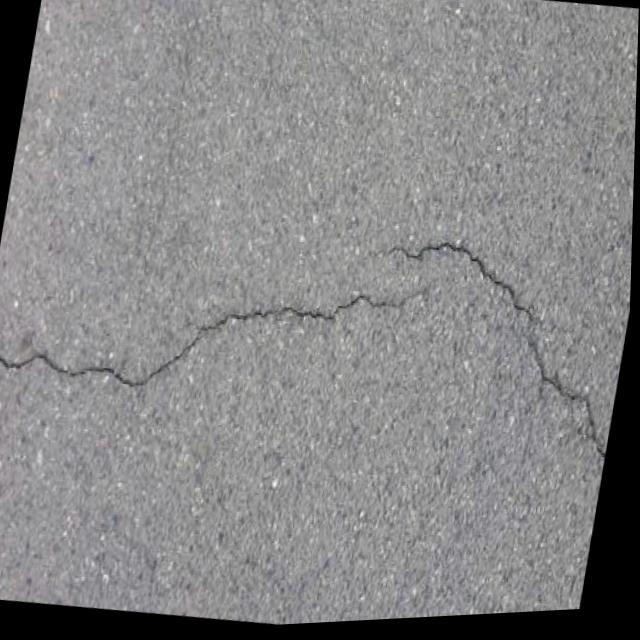Crack: (0, 167, 636, 510)
